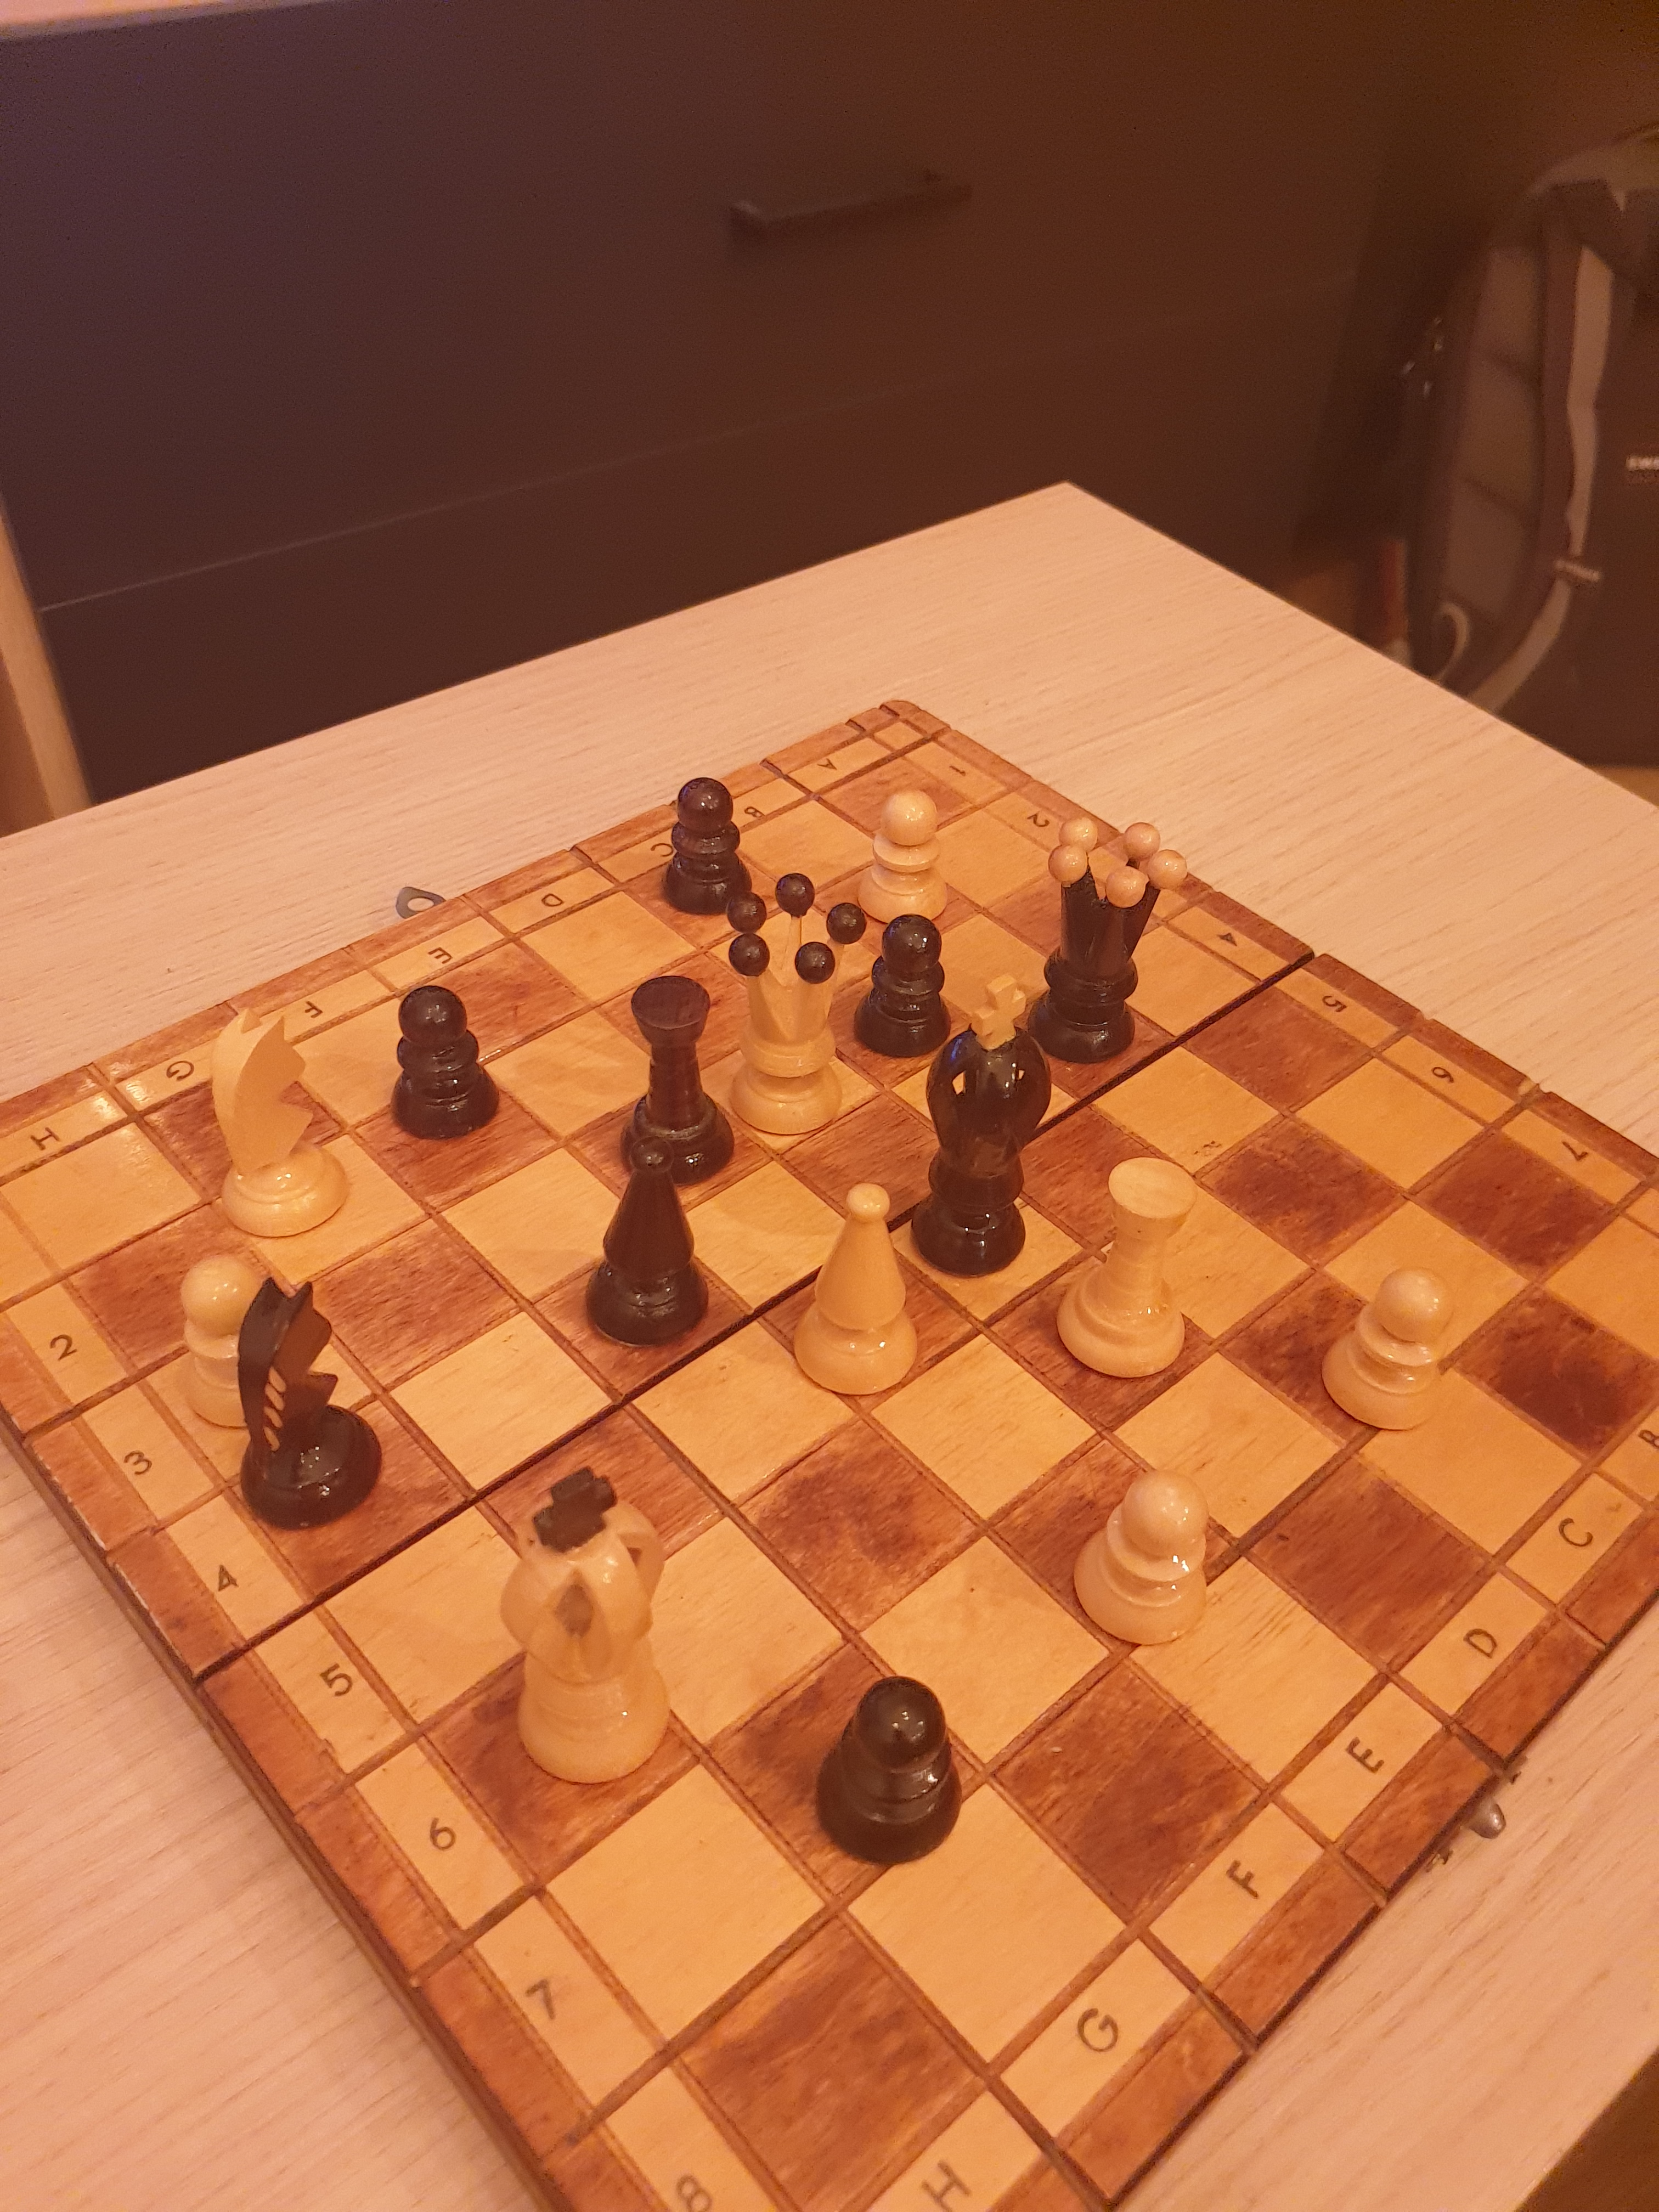bbishop: (559, 1123, 723, 1367)
bking: (901, 965, 1061, 1289)
bknight: (223, 1271, 394, 1534)
bpawn: (803, 1669, 972, 1871), (375, 970, 518, 1163), (838, 900, 962, 1073), (655, 761, 765, 925)
bqueen: (1006, 792, 1197, 1092)
brook: (594, 965, 751, 1207)
wbishop: (784, 1176, 932, 1409)
wking: (486, 1458, 694, 1806)
wknight: (192, 981, 361, 1249)
wpawn: (1058, 1453, 1223, 1662), (1316, 1249, 1450, 1454), (166, 1247, 301, 1449), (840, 772, 960, 953)
wqueen: (706, 855, 870, 1148)
wrook: (1042, 1139, 1206, 1388)
